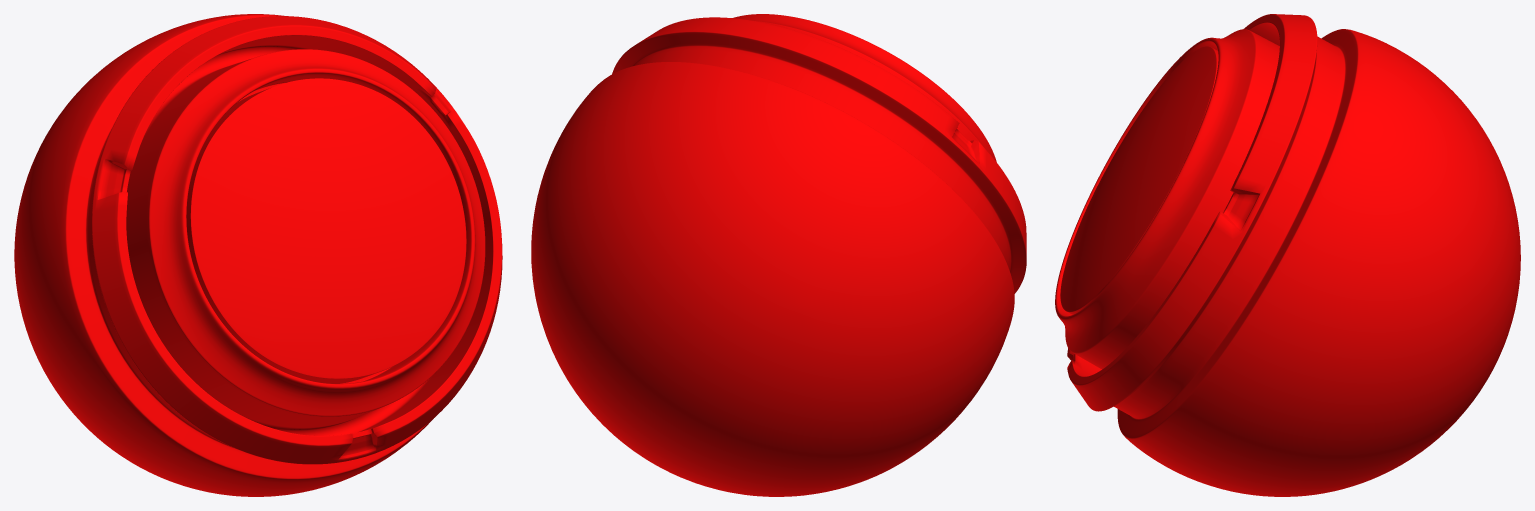
Rendered from PreviewSphere.fbx.
3 renders of one model, left to right at view 1: azimuth 30°, elevation 25°; view 2: azimuth 150°, elevation 25°; view 3: azimuth 270°, elevation 25°, orthographic. The views are drawn at different scales.
Parts seen in each view (by area): view 1: PreviewSphere; view 2: PreviewSphere; view 3: PreviewSphere.
Part boxes in pixels (<box>): PreviewSphere: <box>14,14,502,496</box>; PreviewSphere: <box>531,14,1026,496</box>; PreviewSphere: <box>1055,14,1520,496</box>.
Bounding box in the file's own units: 1.98 × 2 × 1.93.
